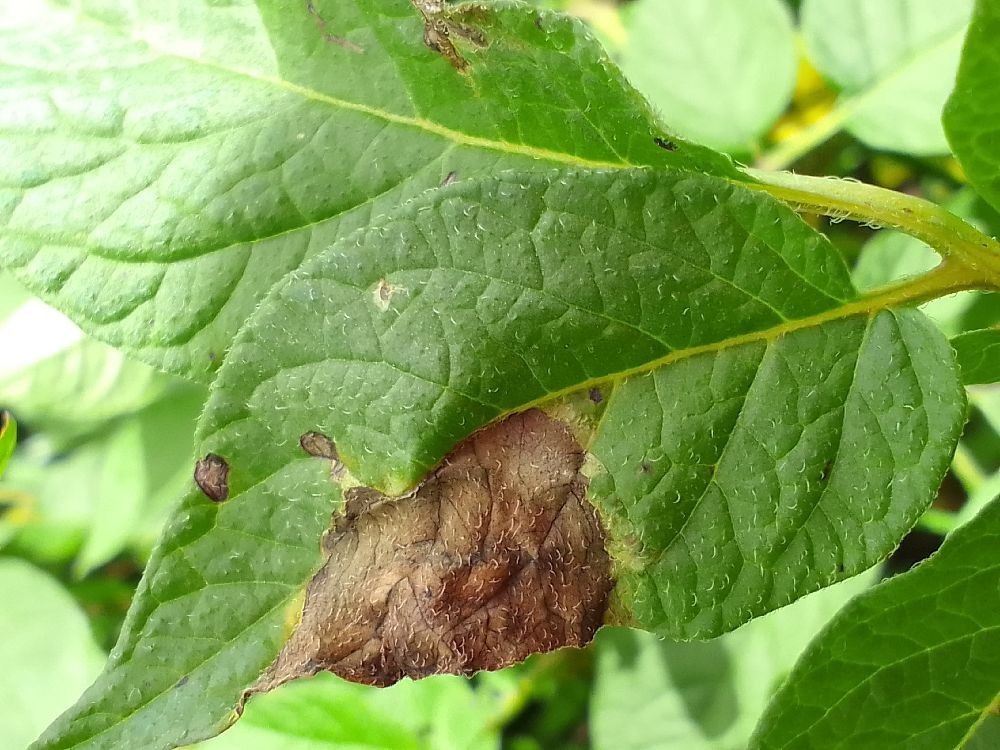late_blight: (249, 370, 643, 705), (405, 0, 500, 79)
